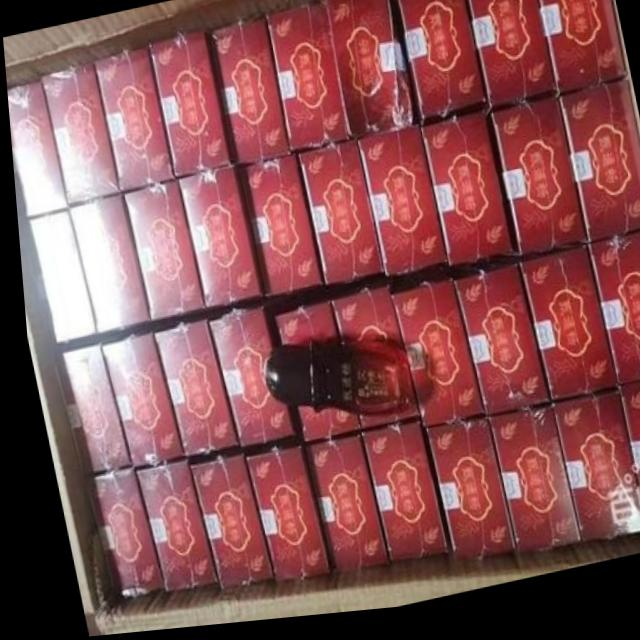box: (416, 122, 513, 286), (487, 110, 582, 270), (515, 257, 609, 414), (353, 135, 444, 296), (448, 273, 543, 426), (293, 147, 381, 306), (545, 399, 636, 551), (323, 0, 417, 147), (235, 160, 323, 316), (480, 412, 571, 561), (557, 93, 640, 256), (387, 289, 478, 436), (146, 34, 234, 182), (173, 172, 259, 323), (415, 427, 507, 567), (201, 312, 288, 458), (266, 7, 348, 161), (120, 182, 201, 334), (237, 449, 324, 588), (354, 427, 438, 570), (393, 0, 483, 133), (66, 196, 147, 343), (295, 440, 380, 580), (40, 65, 120, 212), (208, 23, 286, 173), (92, 49, 172, 194), (148, 325, 232, 463), (180, 457, 264, 592), (95, 334, 179, 468), (466, 0, 555, 124), (16, 212, 93, 354), (127, 462, 209, 594), (45, 344, 123, 478), (76, 468, 154, 600), (538, 0, 626, 110), (6, 80, 66, 222), (585, 245, 640, 399), (324, 299, 396, 358), (612, 391, 640, 536), (264, 305, 335, 352), (290, 411, 354, 447), (349, 413, 412, 438)
